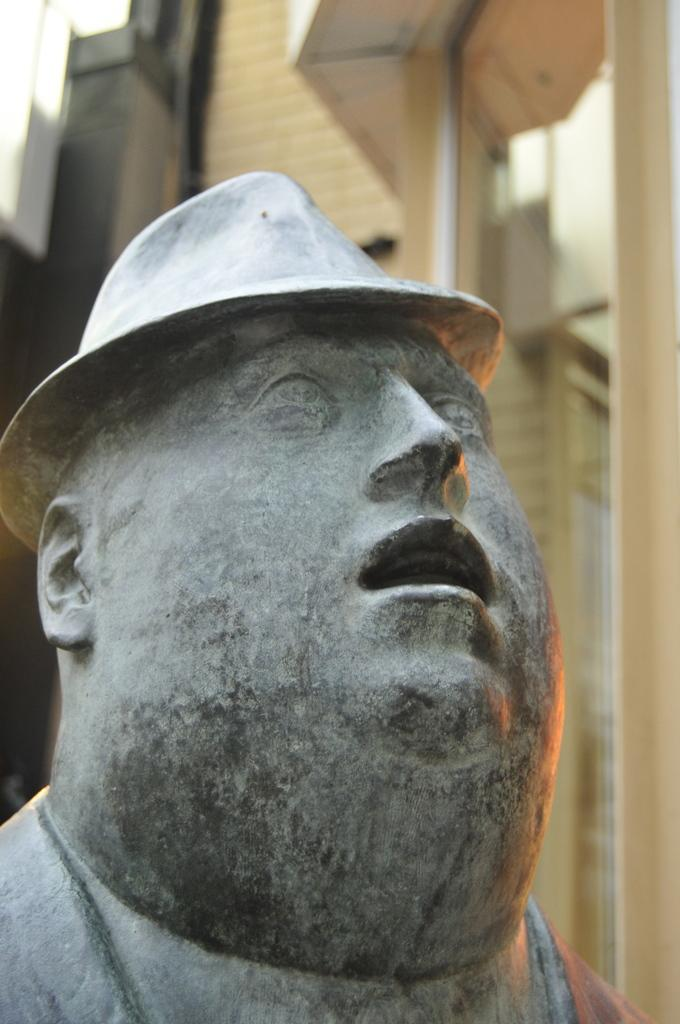Hat: (0, 168, 500, 556)
